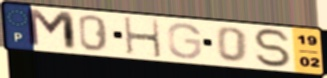0: (213, 25, 251, 65), (77, 14, 109, 53)
G: (166, 21, 204, 60)
H: (121, 16, 164, 60)
M: (25, 7, 80, 53)
S: (251, 27, 295, 70)
